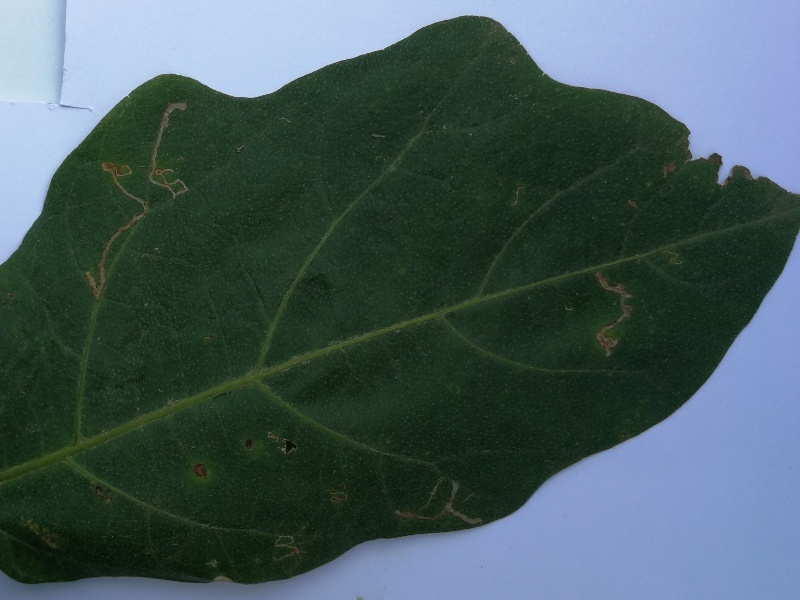leafminer: (86, 161, 148, 306), (391, 474, 488, 536), (141, 101, 194, 198), (592, 268, 639, 366), (262, 529, 308, 568)
